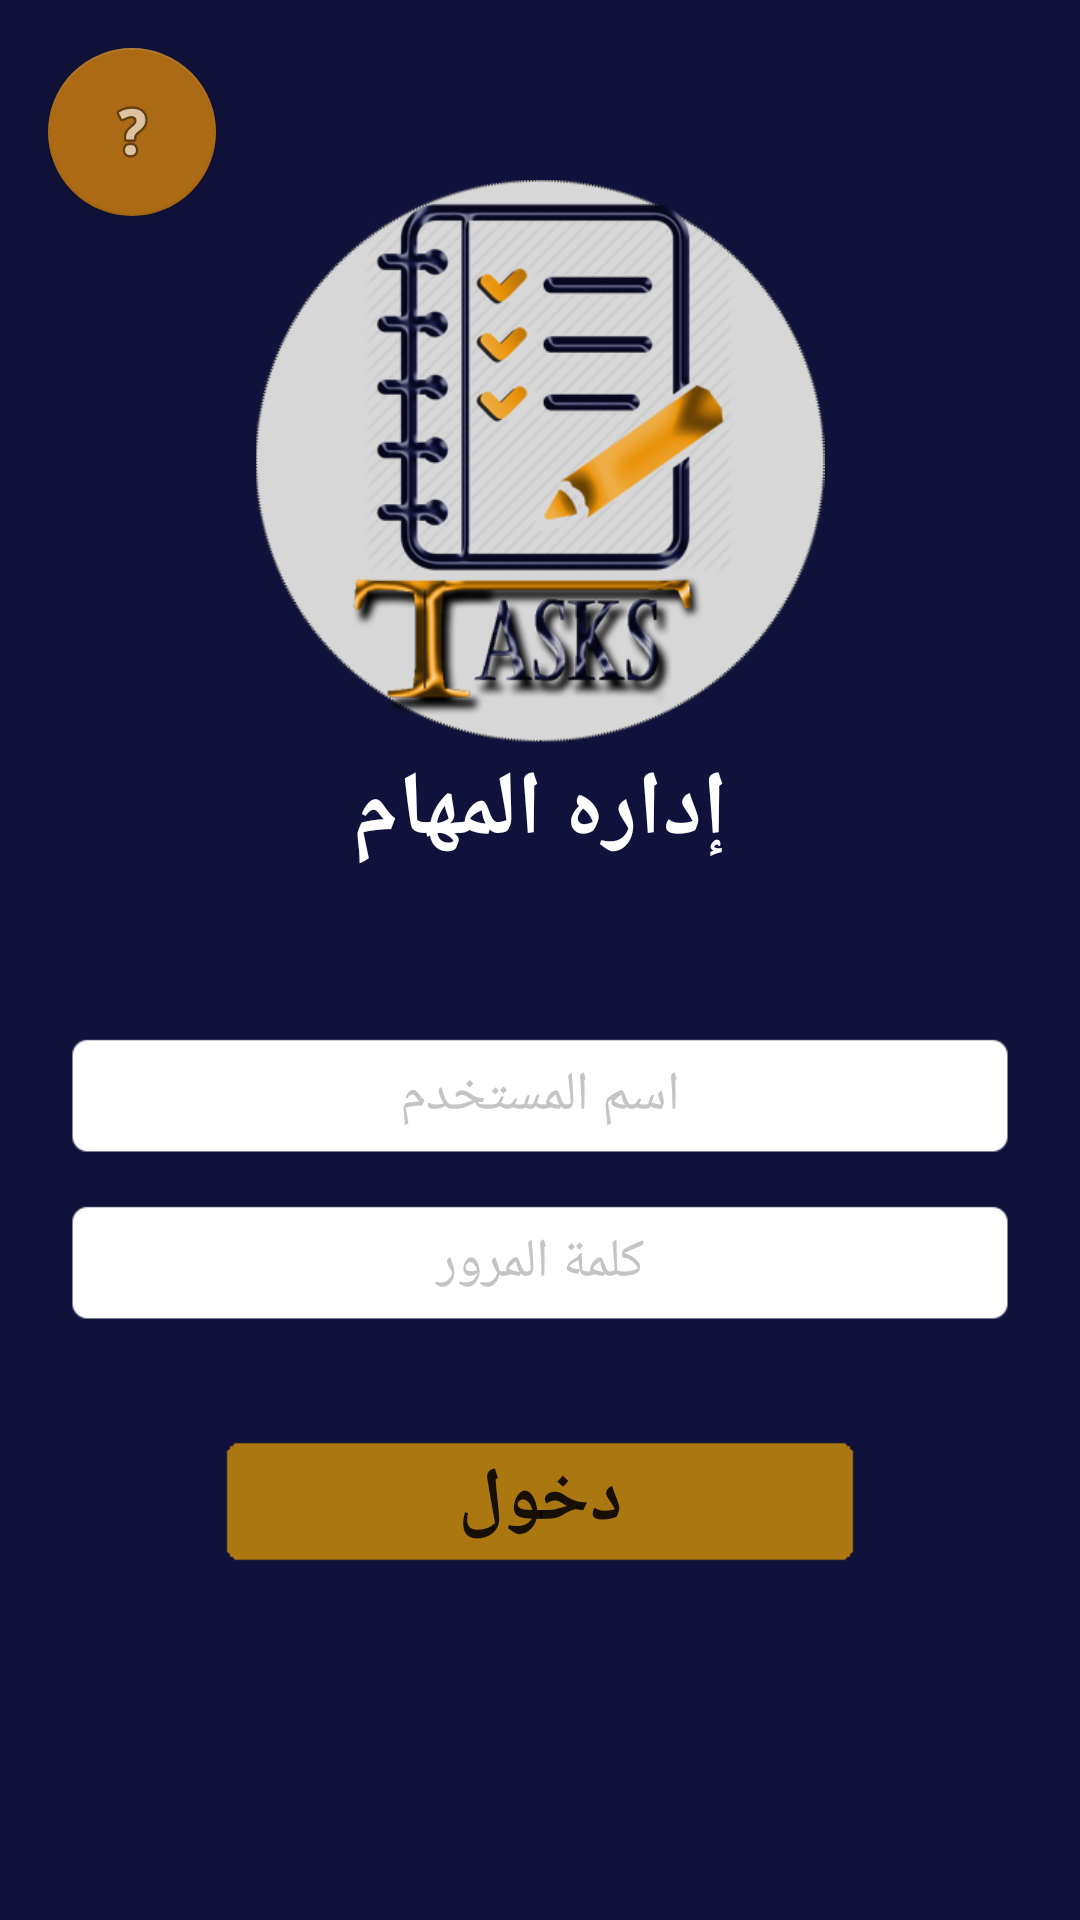

Icons on this 1080×1920 Android screen, each with its box as (x1=x1, y1=y1, x2=x2, y2=y2):
help: (x1=48, y1=48, x2=216, y2=216)
